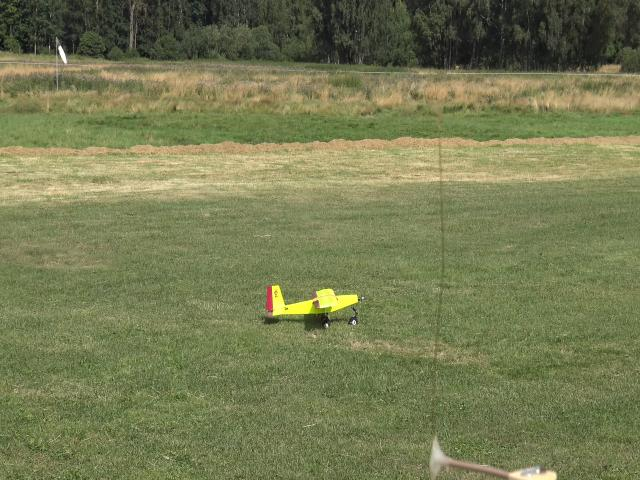plane: (268, 282, 364, 330)
